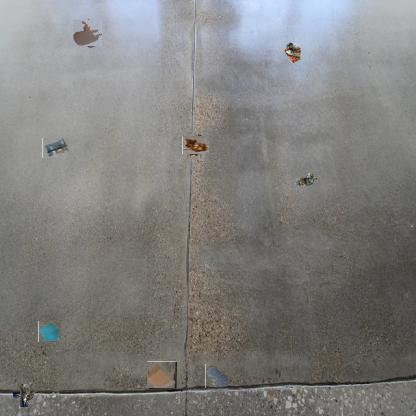dirty: (148, 360, 177, 389), (42, 138, 69, 158), (282, 41, 304, 65), (38, 320, 61, 342), (185, 134, 207, 157), (292, 170, 318, 188), (16, 386, 34, 404)
liquid: (73, 19, 101, 47), (205, 364, 230, 388)
